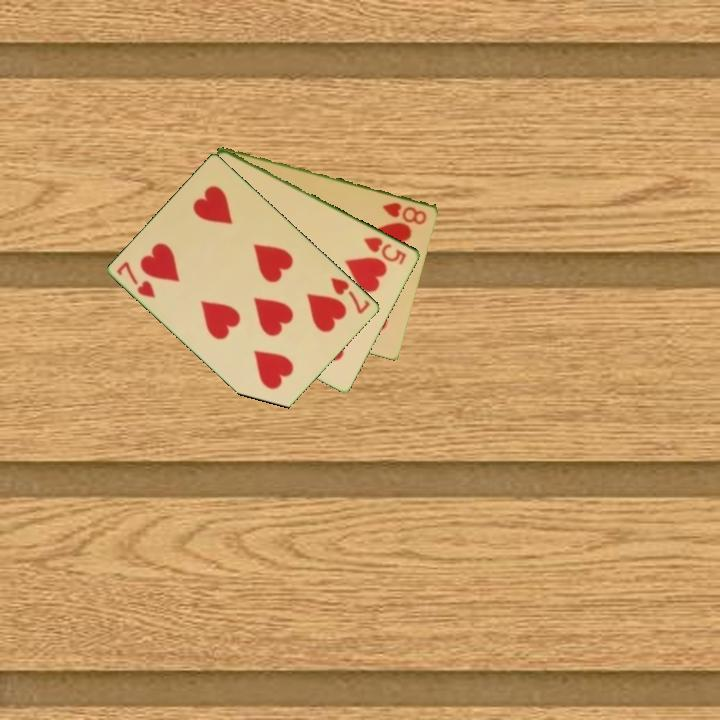5h: (360, 233, 410, 268)
7h: (327, 274, 373, 317), (113, 258, 159, 301)
8h: (379, 198, 430, 227)
